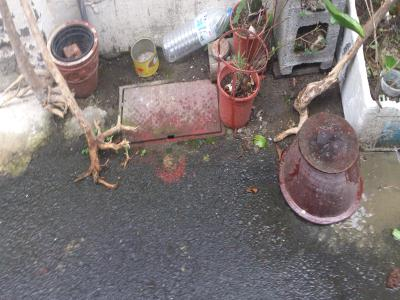bottle: (163, 5, 238, 64), (129, 36, 161, 78)
bowl: (278, 110, 364, 225), (48, 19, 100, 98), (381, 67, 400, 98)
styrofoam: (342, 1, 400, 144)
